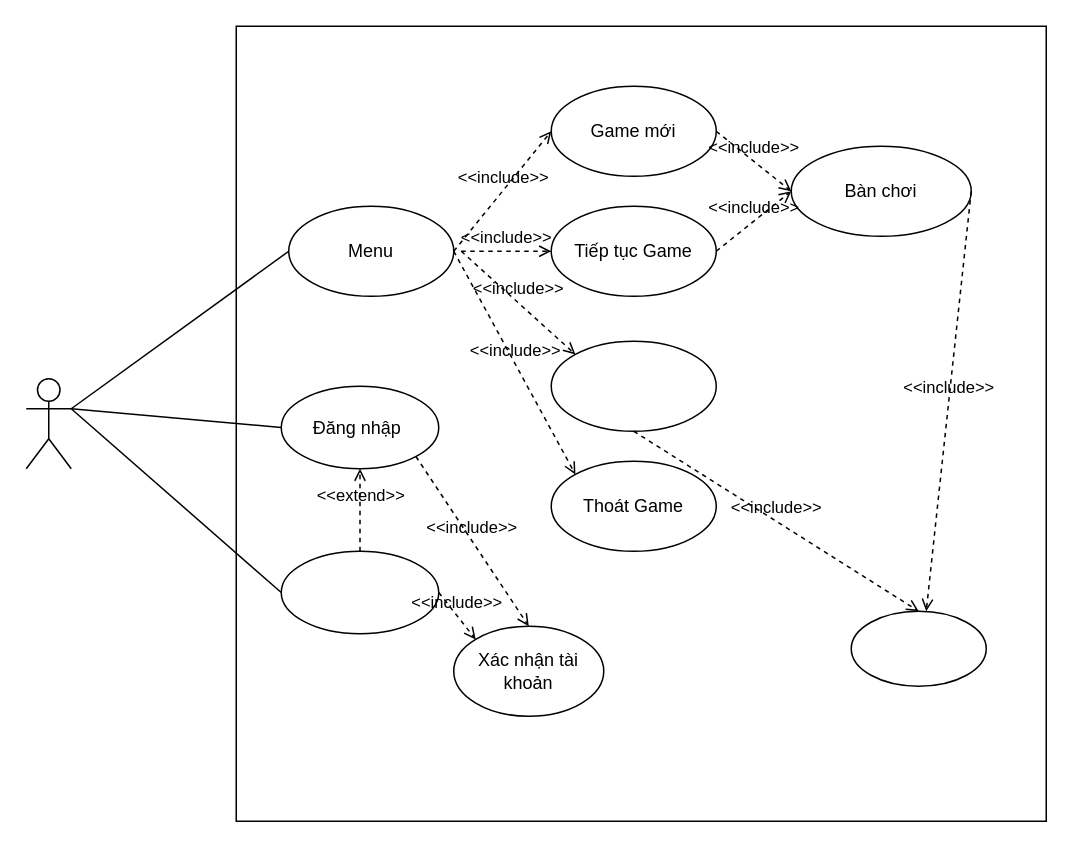
The diagram is 1073 pixels wide and 848 high, and some of its shapes have lost their labels. Here are the shapes that lost their labels. From the top down, the centre of each, then its label:
At (x=633, y=385): "Thiết lập".
At (x=48, y=423): "Actor".
At (x=359, y=592): "Đăng ký".
At (x=918, y=648): "quay lại".
